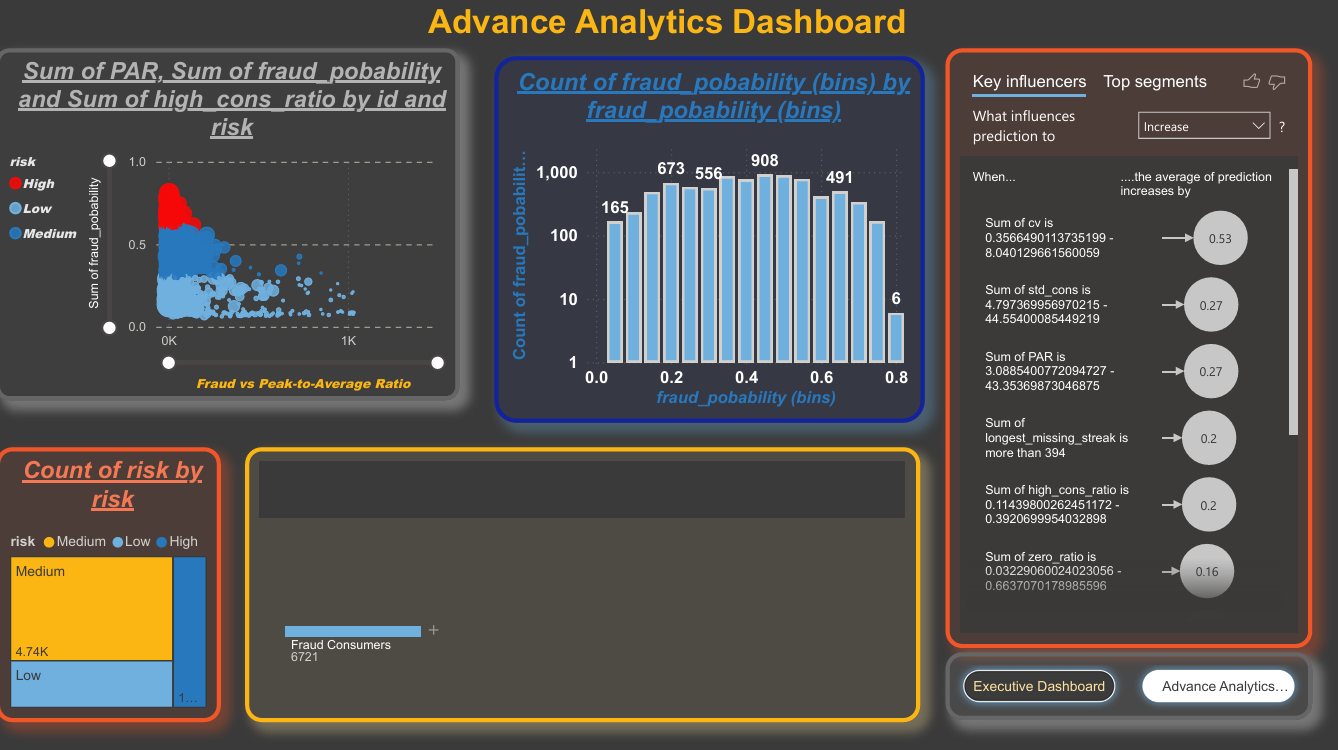

This screenshot's page, from the dashboard's own definition file:
{"tool":"powerbi","page":{"name":"Advance Analytics DAShboard","canvas":[1280,720],"ordinal":1},"visuals":[{"type":"textbox","box":[9.8,0,1270.8,70],"z":0},{"type":"scatterChart","fields":{"X":["Sum(electricity_fraud_db prediction_history.PAR)"],"Y":["Sum(electricity_fraud_db prediction_history.fraud_pobability)"],"Series":["electricity_fraud_db prediction_history.risk"],"Size":["Sum(electricity_fraud_db prediction_history.high_cons_ratio)"],"Category":["electricity_fraud_db prediction_history.id"]},"box":[0,48,445,338.3],"z":1000},{"type":"treemap","fields":{"Group":["electricity_fraud_db prediction_history.risk"],"Values":["CountNonNull(electricity_fraud_db prediction_history.risk)"]},"box":[0,432,216,264],"z":2000},{"type":"clusteredColumnChart","fields":{"Category":["electricity_fraud_db prediction_history.fraud_pobability (bins)"],"Y":["CountNonNull(electricity_fraud_db prediction_history.fraud_pobability (bins))"]},"box":[478.3,56.7,413.3,351.7],"z":3000},{"type":"keyDriversVisual","fields":{"Target":["electricity_fraud_db prediction_history.prediction"],"ExplainBy":["Sum(electricity_fraud_db prediction_history.std_cons)","Sum(electricity_fraud_db prediction_history.Stability)","Sum(electricity_fraud_db prediction_history.PAR)","Sum(electricity_fraud_db prediction_history.cv)","Sum(electricity_fraud_db prediction_history.zero_ratio)","Sum(electricity_fraud_db prediction_history.high_cons_ratio)","Sum(electricity_fraud_db prediction_history.longest_zero_streak)","Sum(electricity_fraud_db prediction_history.longest_missing_streak)"]},"box":[912,48,352,576],"z":4000},{"type":"decompositionTreeVisual","fields":{"Analyze":["electricity_fraud_db prediction_history.Fraud Consumers"],"ExplainBy":["electricity_fraud_db prediction_history.zero_ratio","electricity_fraud_db prediction_history.cv","electricity_fraud_db prediction_history.PAR","electricity_fraud_db prediction_history.high_cons_ratio","electricity_fraud_db prediction_history.risk"]},"box":[240,432,648,264],"z":5000},{"type":"pageNavigator","box":[912,629,352,65],"z":6000}]}

Visuals, with their boxes in screenshot pixels (x1, y1, x2, y2), scaled from the page's 1280x720 canvas onto the 1338x750 screenshot:
textbox: {"x1": 10, "y1": 0, "x2": 1337, "y2": 73}
scatterChart - Sum(electricity_fraud_db prediction_history.PAR) x Sum(electricity_fraud_db prediction_history.fraud_pobability): {"x1": 0, "y1": 50, "x2": 465, "y2": 402}
treemap - electricity_fraud_db prediction_history.risk x CountNonNull(electricity_fraud_db prediction_history.risk): {"x1": 0, "y1": 450, "x2": 226, "y2": 725}
clusteredColumnChart - electricity_fraud_db prediction_history.fraud_pobability (bins) x CountNonNull(electricity_fraud_db prediction_history.fraud_pobability (bins)): {"x1": 500, "y1": 59, "x2": 932, "y2": 425}
keyDriversVisual - electricity_fraud_db prediction_history.prediction x Sum(electricity_fraud_db prediction_history.std_cons): {"x1": 953, "y1": 50, "x2": 1321, "y2": 650}
decompositionTreeVisual - electricity_fraud_db prediction_history.Fraud Consumers x electricity_fraud_db prediction_history.zero_ratio: {"x1": 251, "y1": 450, "x2": 928, "y2": 725}
pageNavigator: {"x1": 953, "y1": 655, "x2": 1321, "y2": 723}
